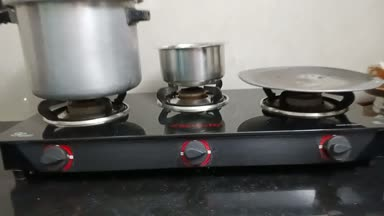flame_gas_off: (30, 93, 133, 176), (264, 87, 372, 165), (162, 84, 228, 170)
